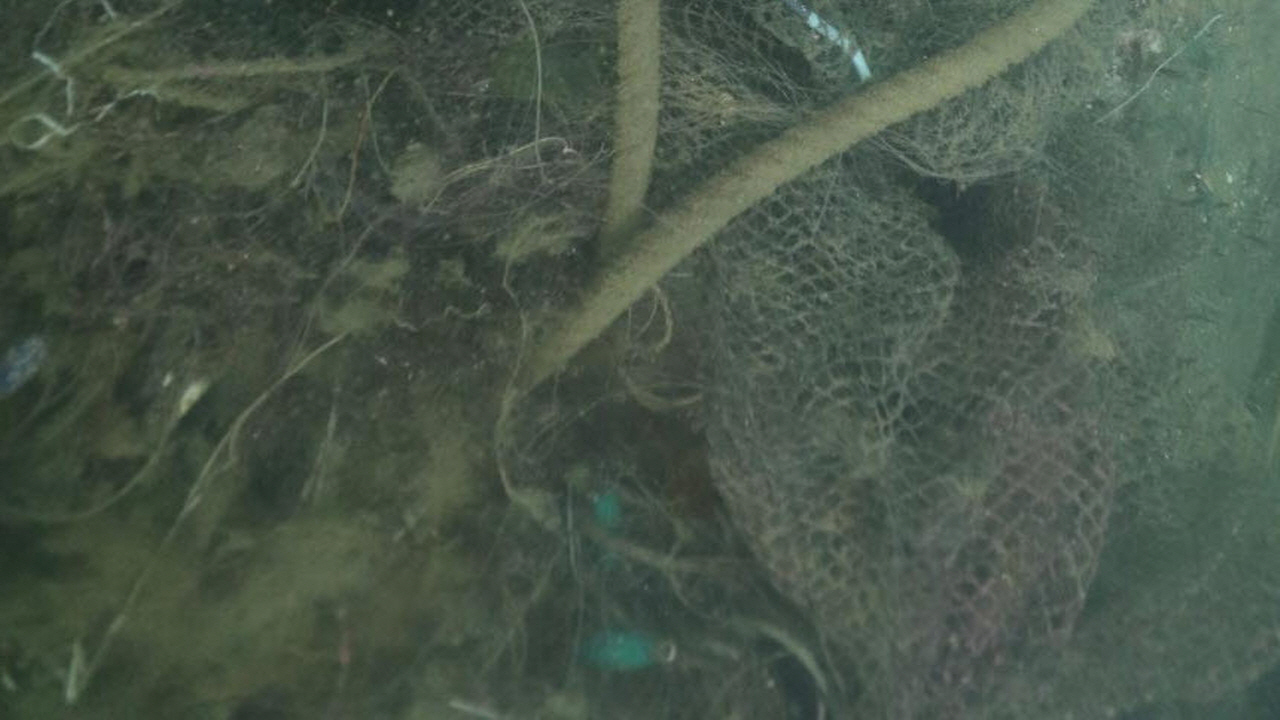bundle of ropes: (510, 0, 1101, 397)
fish net: (406, 0, 1280, 720)
